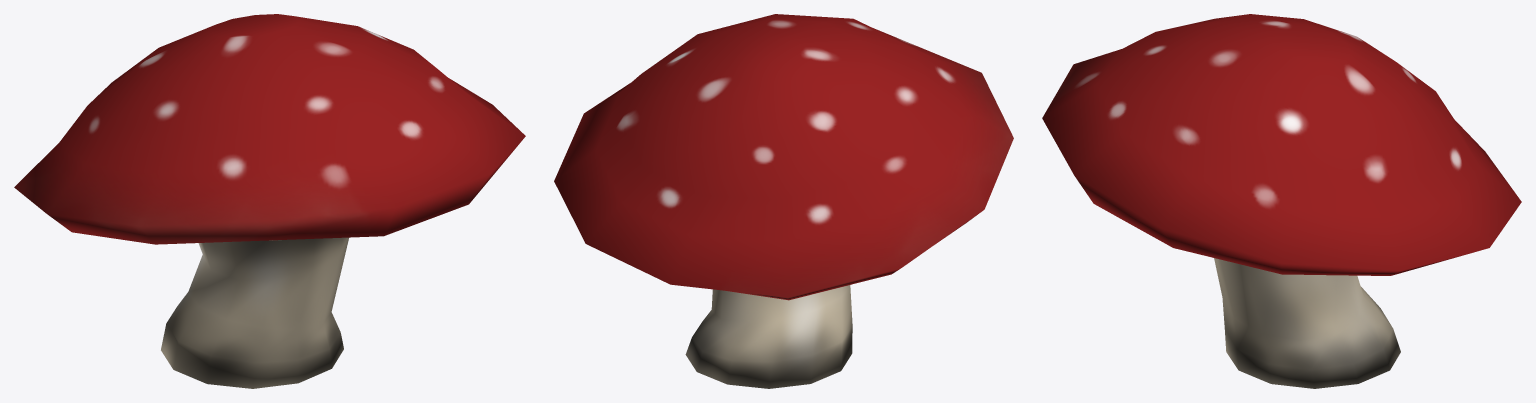
File: Ground_NatureAccent_Shroom02.fbx
3 renders of one model, left to right at view 1: azimuth 30°, elevation 25°; view 2: azimuth 150°, elevation 25°; view 3: azimuth 270°, elevation 25°, orthographic. The views are drawn at different scales.
Parts seen in each view (by area): view 1: pCylinder2; view 2: pCylinder2; view 3: pCylinder2.
Part boxes in pixels (x1=…): pCylinder2: x1=14, y1=14, x2=525, y2=388; pCylinder2: x1=554, y1=14, x2=1013, y2=388; pCylinder2: x1=1042, y1=14, x2=1521, y2=388.
Size of the model in its own units: 30.76 by 22.02 by 30.21.
